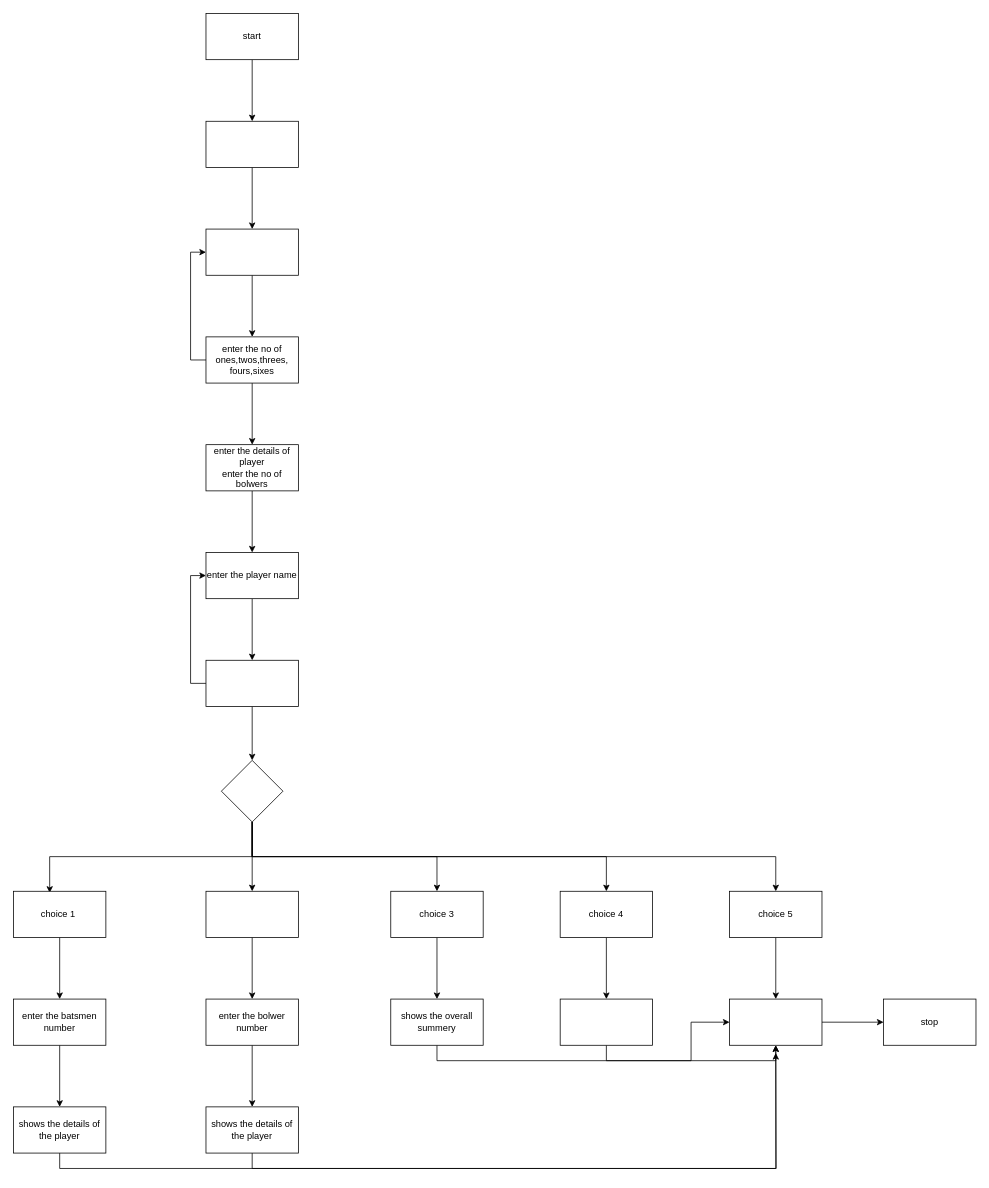
This 989x1188 diagram has some shape labels left out. Here are the shapes that lost their labels. From the top down, the centre of each, then its label:
the point at 251,144: enter the player details enter the no of batsmen
the point at 251,251: enter the name of player
the point at 251,683: enter the no of runs given, no of wickets taken, no of overs bowled
the point at 252,791: enter the choice
the point at 251,914: choice 2
the point at 606,1021: shows the all records achieved by the palyers
the point at 775,1021: exit
